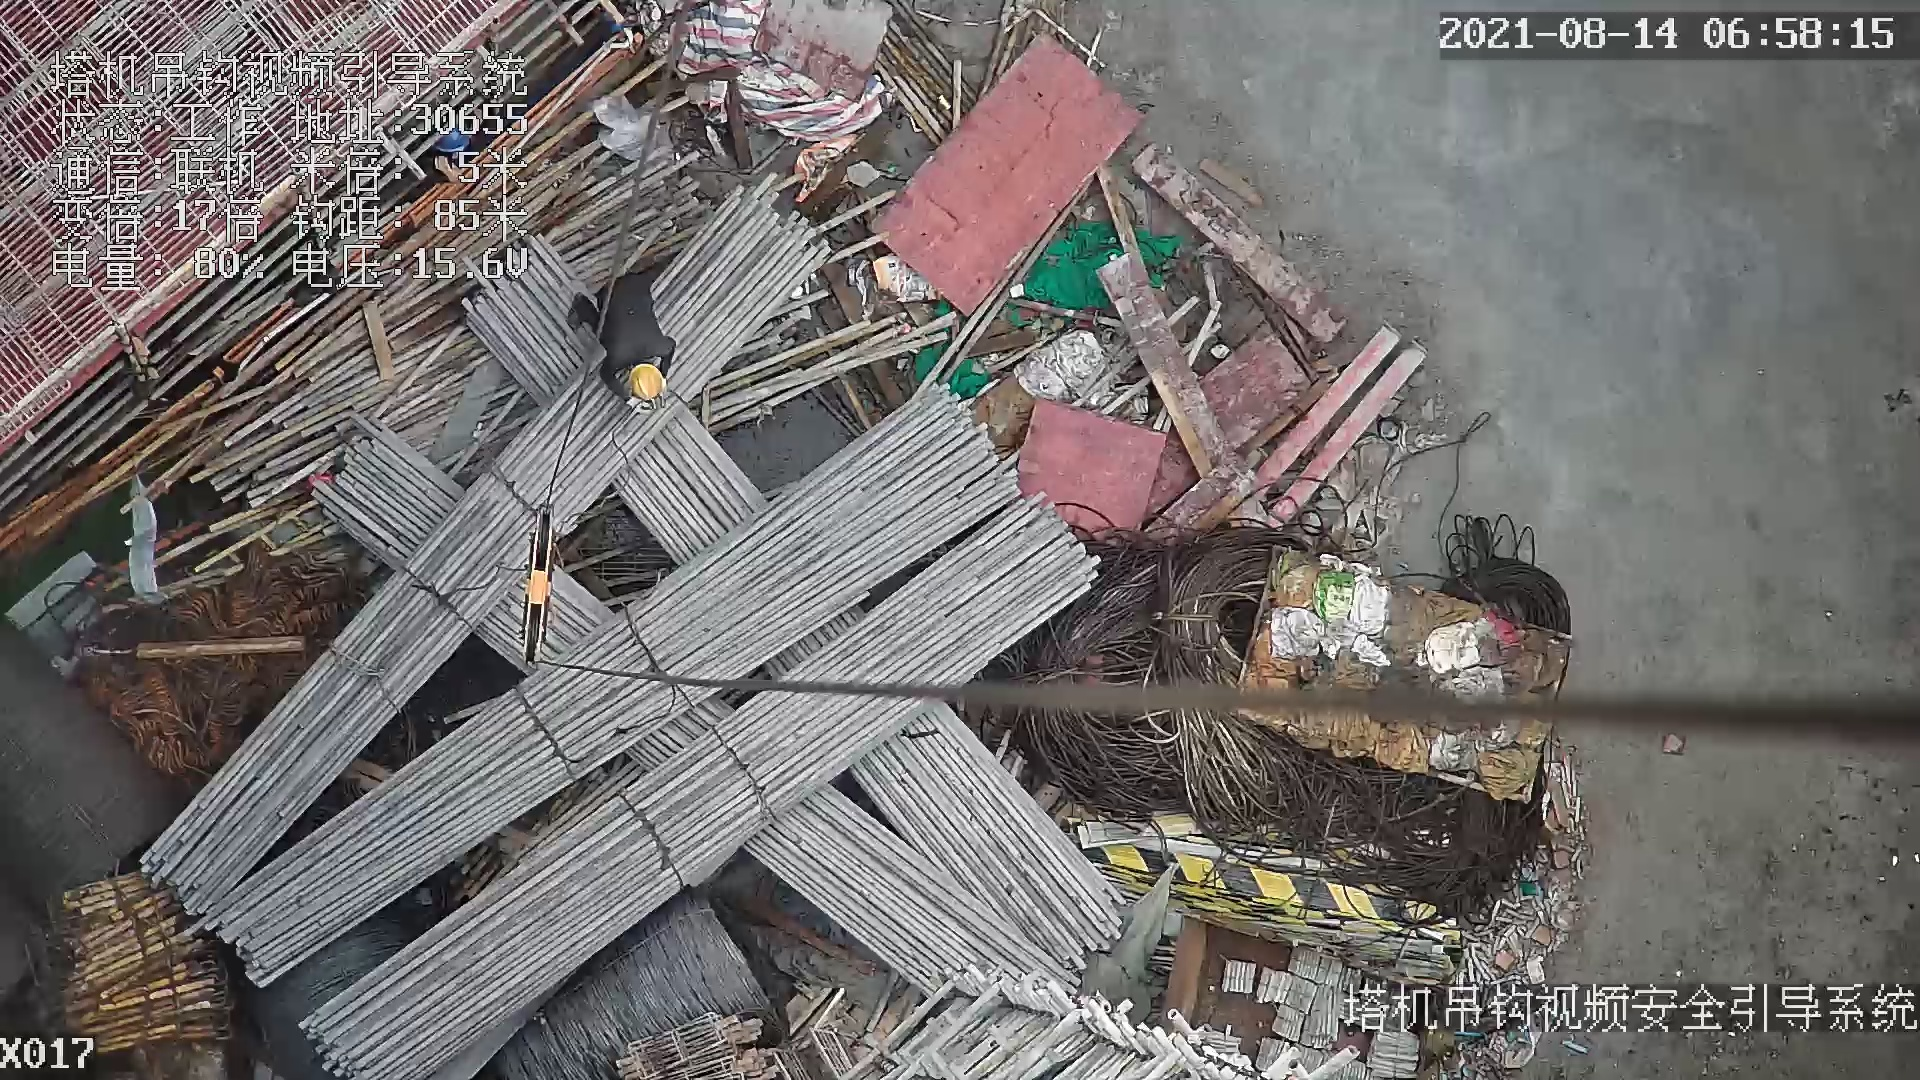helmet: (628, 363, 663, 400)
hook: (522, 501, 567, 671)
person: (569, 274, 674, 419)
rebar: (138, 180, 835, 919), (202, 387, 1019, 987), (301, 493, 1100, 1080), (742, 773, 1085, 996), (848, 696, 1125, 966)
scaffold: (56, 872, 227, 1053)
